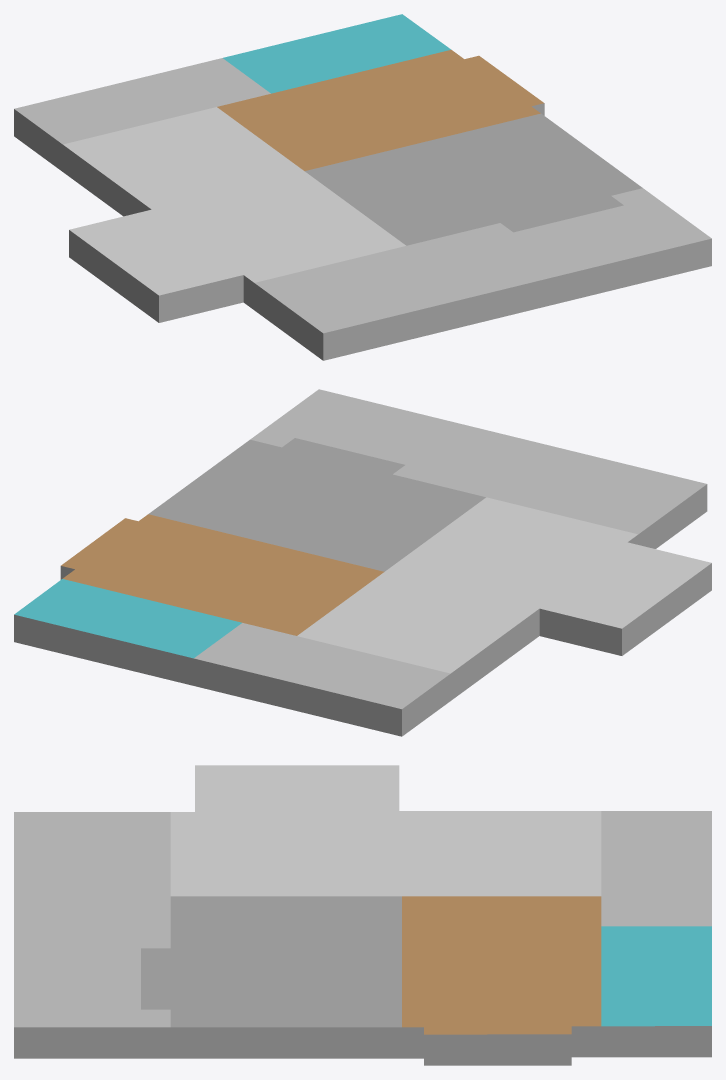
Rendered from House_floor_geo.fbx.
The picture shows the model from 3 angles, top to bottom: view 1: azimuth 30°, elevation 25°; view 2: azimuth 150°, elevation 25°; view 3: azimuth 270°, elevation 25°; orthographic projection. The views are drawn at different scales.
Visible parts, largest first — view 1: house_floor_main, house_floor_frontPatio, house_floor_backPatio; view 2: house_floor_main, house_floor_frontPatio, house_floor_backPatio; view 3: house_floor_main, house_floor_frontPatio, house_floor_backPatio.
Boxes of the visible parts, box(x1,y1,x2,y2) form: house_floor_main: box(62, 14, 642, 322); house_floor_frontPatio: box(254, 188, 711, 360); house_floor_backPatio: box(14, 58, 270, 171); house_floor_main: box(14, 438, 711, 700); house_floor_frontPatio: box(250, 389, 707, 548); house_floor_backPatio: box(193, 623, 450, 736); house_floor_main: box(141, 765, 711, 1065); house_floor_frontPatio: box(14, 812, 170, 1058); house_floor_backPatio: box(601, 811, 711, 926).
Bounding box in the file's own units: 1295 × 70 × 1418.
